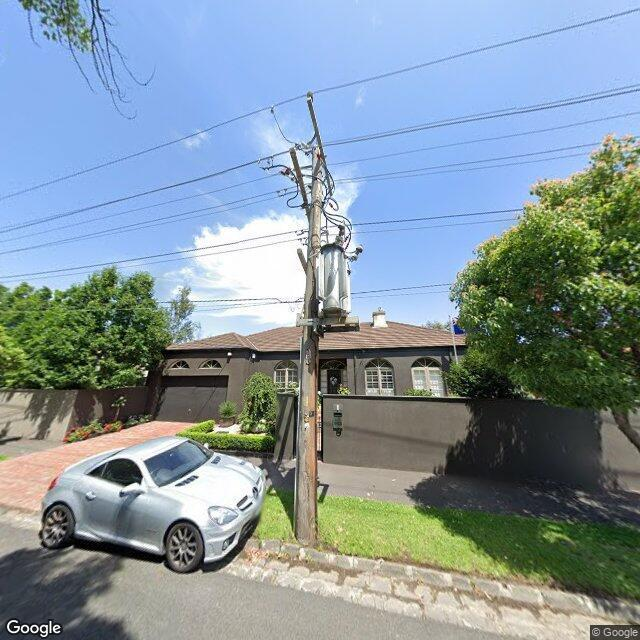crossarm: (306, 98, 332, 196), (289, 148, 310, 221), (296, 249, 306, 274)
timber-pole: (292, 146, 323, 547)
transformer: (318, 244, 351, 318)
